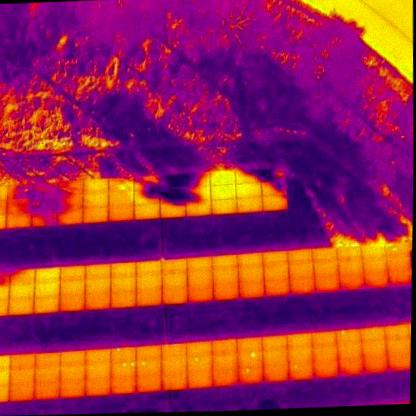Diode: (108, 177, 133, 193), (362, 244, 385, 259)
Hotspot: (212, 366, 238, 387), (161, 371, 187, 390), (237, 365, 264, 383), (263, 364, 289, 382), (287, 363, 314, 379), (110, 360, 137, 375), (110, 346, 135, 362), (211, 339, 237, 354), (237, 351, 263, 366), (336, 329, 361, 344), (262, 351, 287, 366), (187, 355, 212, 370), (136, 359, 161, 374), (161, 343, 187, 357), (385, 243, 409, 257), (360, 328, 384, 342)
Normal: (33, 381, 59, 400), (313, 359, 338, 378), (135, 373, 161, 391), (59, 379, 85, 397), (212, 284, 239, 301), (314, 274, 339, 292), (290, 277, 315, 295), (187, 370, 212, 388), (110, 375, 135, 393), (110, 262, 136, 279), (187, 285, 213, 302), (135, 289, 161, 306), (84, 292, 110, 309), (85, 378, 111, 395), (8, 383, 34, 400), (184, 200, 211, 216), (211, 255, 238, 271), (160, 259, 187, 275), (84, 264, 111, 280), (59, 266, 86, 282), (265, 278, 289, 296), (238, 281, 265, 297), (263, 266, 288, 283), (364, 271, 389, 288), (312, 330, 337, 347), (287, 333, 312, 350), (386, 353, 411, 370), (362, 355, 387, 372), (210, 184, 236, 200), (261, 195, 287, 211), (236, 197, 262, 213), (133, 203, 159, 219), (287, 249, 313, 265), (237, 252, 263, 268), (186, 257, 212, 273), (338, 273, 364, 289), (161, 288, 187, 304), (110, 291, 136, 307), (58, 295, 84, 311), (384, 324, 410, 340), (9, 354, 35, 370), (9, 369, 35, 385), (7, 298, 34, 313), (236, 182, 261, 198), (108, 205, 133, 221), (136, 260, 161, 276), (60, 350, 85, 366), (35, 352, 60, 368), (338, 357, 363, 373), (108, 191, 134, 206), (82, 207, 108, 222), (262, 252, 288, 267), (33, 269, 59, 284), (212, 270, 238, 285), (59, 281, 85, 296), (33, 283, 59, 298), (9, 284, 35, 299), (237, 337, 263, 352), (135, 345, 161, 360), (85, 349, 111, 364), (161, 356, 187, 371), (388, 269, 412, 285), (262, 335, 286, 351), (210, 199, 237, 213), (84, 364, 111, 378), (59, 366, 86, 380), (83, 179, 108, 194), (83, 193, 108, 208), (337, 246, 362, 261), (312, 248, 337, 263), (161, 274, 186, 289), (186, 341, 211, 356), (361, 341, 386, 356), (336, 343, 361, 358), (287, 349, 312, 364), (210, 171, 236, 185), (57, 210, 83, 224), (5, 214, 31, 228), (386, 257, 412, 271), (287, 264, 313, 278), (187, 272, 213, 286), (136, 276, 162, 290), (110, 277, 136, 291), (34, 368, 60, 382), (238, 268, 263, 282), (33, 298, 58, 312), (312, 346, 337, 360), (85, 280, 111, 293), (212, 354, 238, 367), (313, 262, 338, 275), (385, 340, 410, 353), (363, 258, 386, 272), (337, 261, 363, 273)
Shadow: (31, 196, 58, 213), (184, 185, 211, 201), (57, 194, 84, 210), (8, 269, 36, 284), (259, 165, 285, 181), (6, 198, 32, 214), (133, 189, 160, 204), (159, 201, 184, 217), (184, 172, 210, 187), (158, 173, 184, 188), (159, 187, 185, 202), (31, 211, 57, 226), (234, 169, 259, 184), (134, 175, 159, 190), (262, 181, 287, 196), (57, 181, 83, 195), (32, 183, 58, 197), (6, 184, 32, 198)
